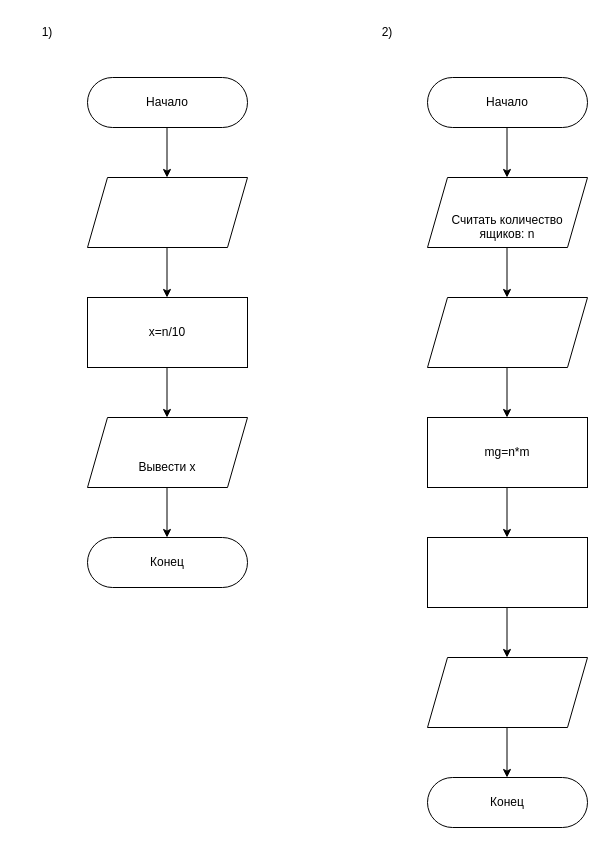
Image size: 605x845. Some labels were removed from this diagram. Here are the shapes that lost their labels. From the top down, the centre of each, then its label:
At (167,212): "Считать общее количество товаров: n".
At (507,332): "Считать массу ящика в граммах: m".
At (507,572): "mkg=mg/1000".
At (507,692): "Вывести: mkg".
